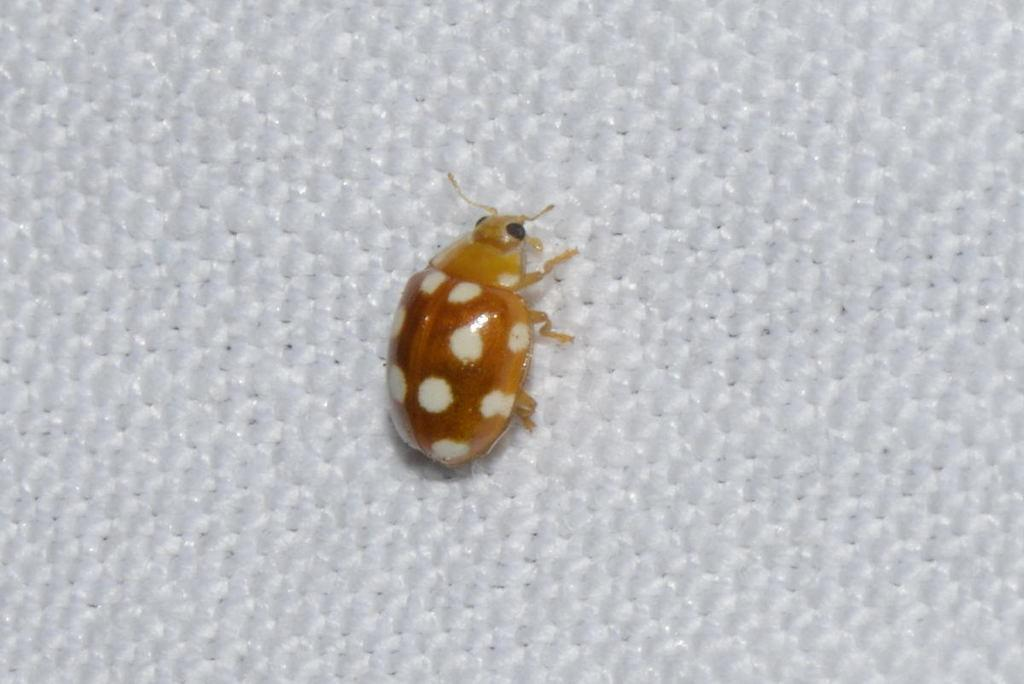ladybug: (383, 165, 585, 479)
